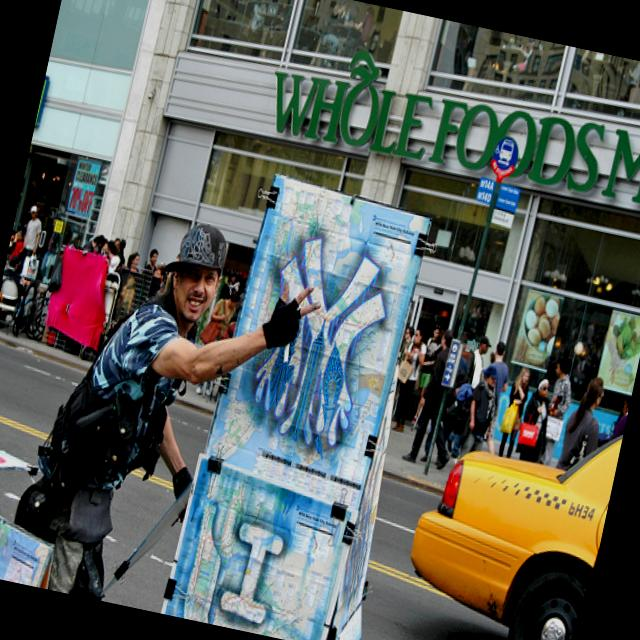Vehicle: (384, 381, 625, 640)
